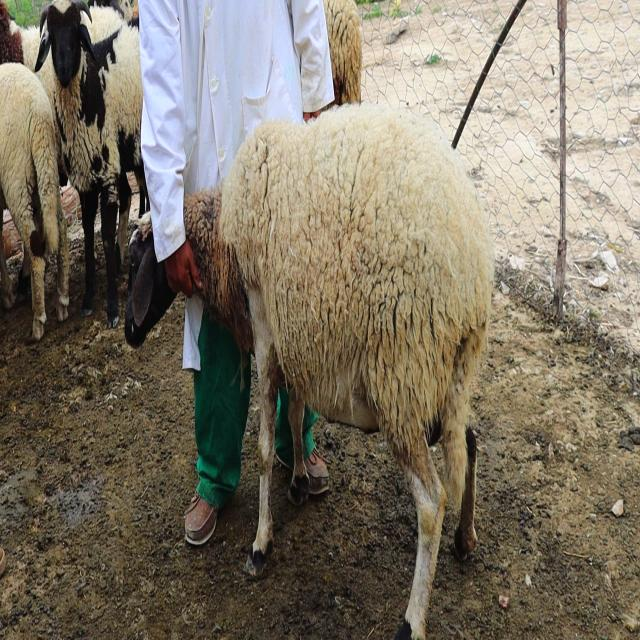Score_5: (184, 105, 494, 639)
